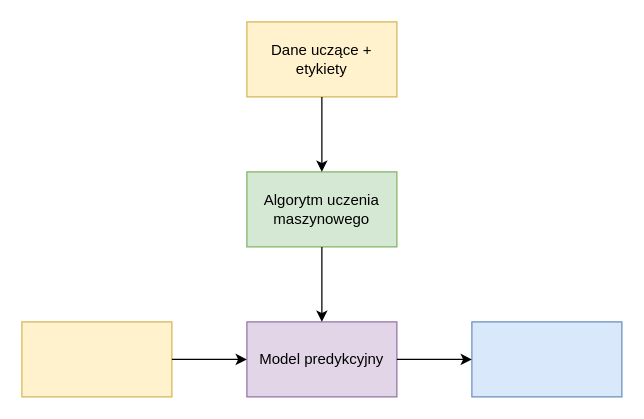
The diagram is 644 pixels wide and 419 high, and some of its shapes have lost their labels. Here are the shapes that lost their labels. From the top down, the box of each, then its label:
(21, 321, 172, 397): Nowe dane
(471, 321, 622, 397): Progozy
